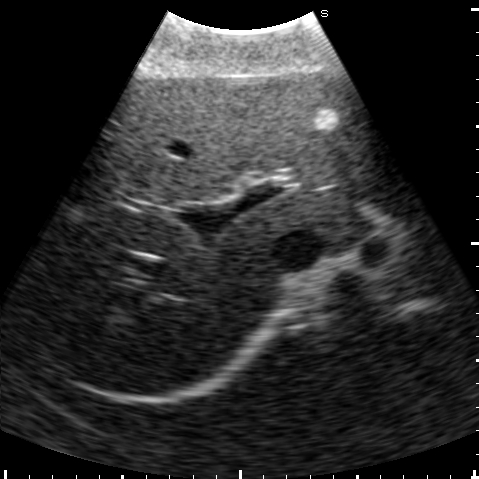IVC: (277, 232, 321, 271)
S1: (282, 193, 365, 240)
S2: (335, 179, 427, 222)
S3: (261, 68, 401, 188)
S4: (92, 72, 326, 205)
Tumor: (311, 109, 338, 130)
